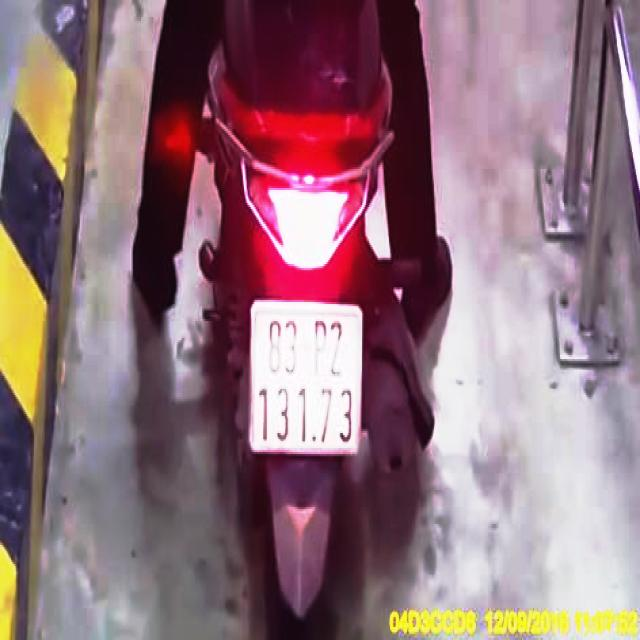license_plate: (252, 301, 364, 455)
